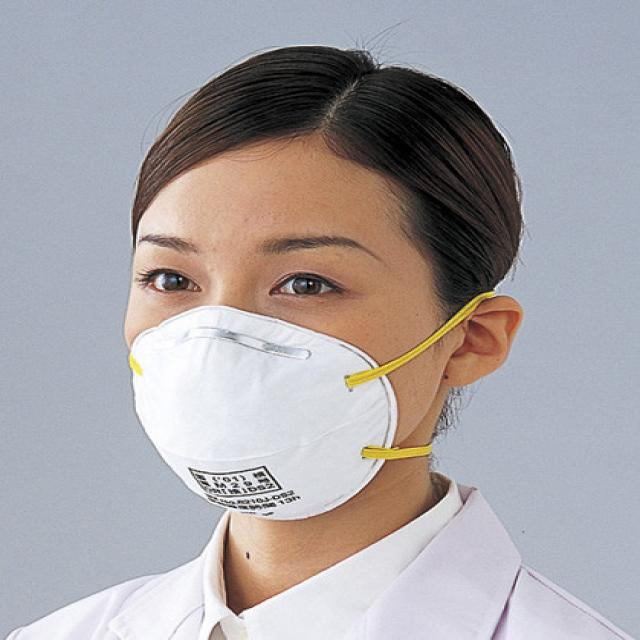mask: (124, 183, 401, 522)
